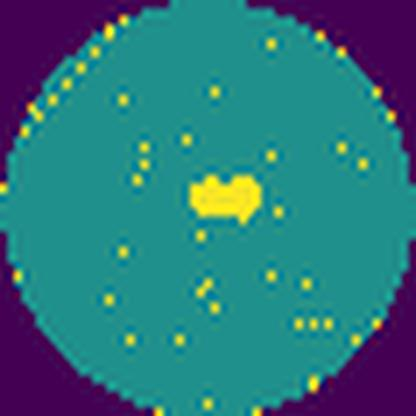Center: (188, 172, 263, 218)
